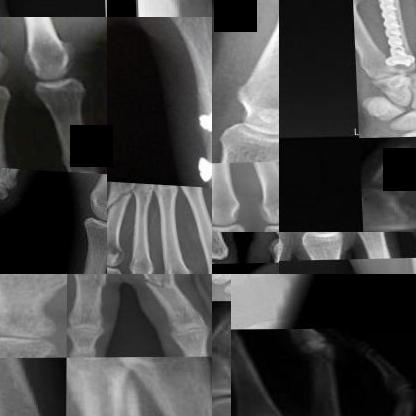fracture: (74, 376, 174, 415), (362, 0, 415, 72), (184, 64, 211, 188), (359, 165, 414, 218), (131, 274, 190, 299), (107, 179, 137, 216), (212, 328, 231, 382), (68, 274, 117, 294)
